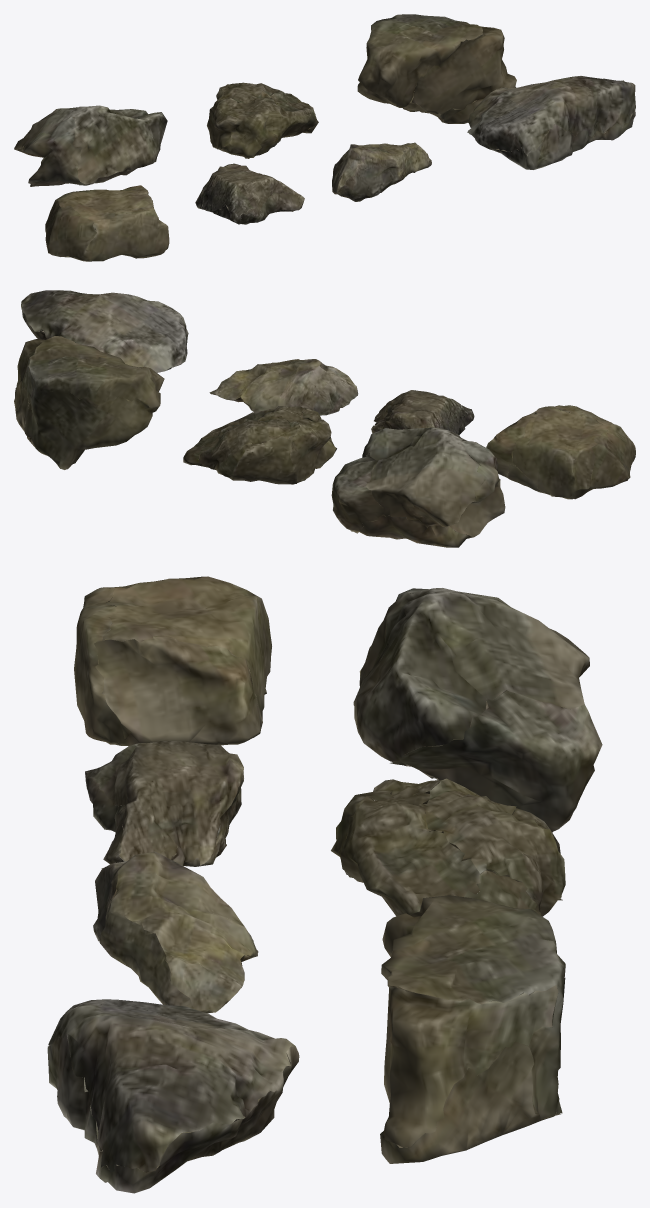
The model's file is rock_moss_set_02.glb.
The picture shows the model from 3 angles, top to bottom: view 1: azimuth 30°, elevation 25°; view 2: azimuth 150°, elevation 25°; view 3: azimuth 270°, elevation 25°; orthographic projection. The views are drawn at different scales.
Visible parts, largest first — view 1: rock_moss_set_02_rock13, rock_moss_set_02_rock10, rock_moss_set_02_rock11, rock_moss_set_02_rock07, rock_moss_set_02_rock12, rock_moss_set_02_rock08, rock_moss_set_02_rock09; view 2: rock_moss_set_02_rock11, rock_moss_set_02_rock13, rock_moss_set_02_rock07, rock_moss_set_02_rock10, rock_moss_set_02_rock12, rock_moss_set_02_rock09, rock_moss_set_02_rock08; view 3: rock_moss_set_02_rock13, rock_moss_set_02_rock11, rock_moss_set_02_rock10, rock_moss_set_02_rock07, rock_moss_set_02_rock12, rock_moss_set_02_rock09, rock_moss_set_02_rock08.
Boxes of the visible parts, <box> form: rock_moss_set_02_rock13: <box>357,14,516,123</box>; rock_moss_set_02_rock10: <box>467,76,635,169</box>; rock_moss_set_02_rock11: <box>14,105,167,186</box>; rock_moss_set_02_rock07: <box>45,185,169,261</box>; rock_moss_set_02_rock12: <box>207,82,318,158</box>; rock_moss_set_02_rock08: <box>195,163,304,224</box>; rock_moss_set_02_rock09: <box>332,142,431,201</box>; rock_moss_set_02_rock11: <box>331,427,505,547</box>; rock_moss_set_02_rock13: <box>14,336,164,469</box>; rock_moss_set_02_rock07: <box>486,405,635,499</box>; rock_moss_set_02_rock10: <box>21,290,188,372</box>; rock_moss_set_02_rock12: <box>183,406,336,484</box>; rock_moss_set_02_rock09: <box>209,359,358,415</box>; rock_moss_set_02_rock08: <box>371,390,474,435</box>; rock_moss_set_02_rock13: <box>380,895,565,1163</box>; rock_moss_set_02_rock11: <box>353,588,602,832</box>; rock_moss_set_02_rock10: <box>47,999,299,1193</box>; rock_moss_set_02_rock07: <box>74,576,271,746</box>; rock_moss_set_02_rock12: <box>331,778,565,916</box>; rock_moss_set_02_rock09: <box>93,851,258,1013</box>; rock_moss_set_02_rock08: <box>85,741,243,866</box>.
Size of the model in its own units: 8.27 by 1.36 by 3.41.
Materials: 1 (1 with a texture image).
